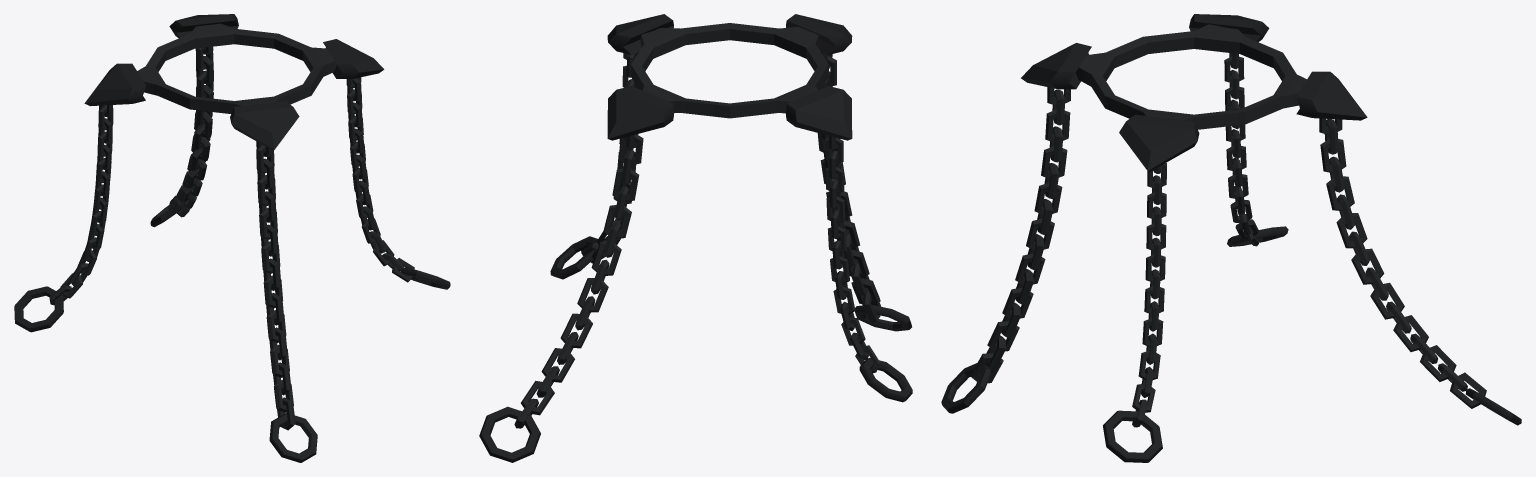
File: pit_ring_chains.gltf
3 renders of one model, left to right at view 1: azimuth 30°, elevation 25°; view 2: azimuth 150°, elevation 25°; view 3: azimuth 270°, elevation 25°, orthographic. The views are drawn at different scales.
Visible parts, largest first — view 1: pit_ring_chains; view 2: pit_ring_chains; view 3: pit_ring_chains.
Part boxes in pixels (x1,y1,x2,y2): pit_ring_chains: [14, 14, 450, 462]; pit_ring_chains: [479, 14, 912, 462]; pit_ring_chains: [941, 14, 1521, 462].
Bounding box in the file's own units: 36.69 × 29.06 × 42.59.
1 material, 1 textured.
